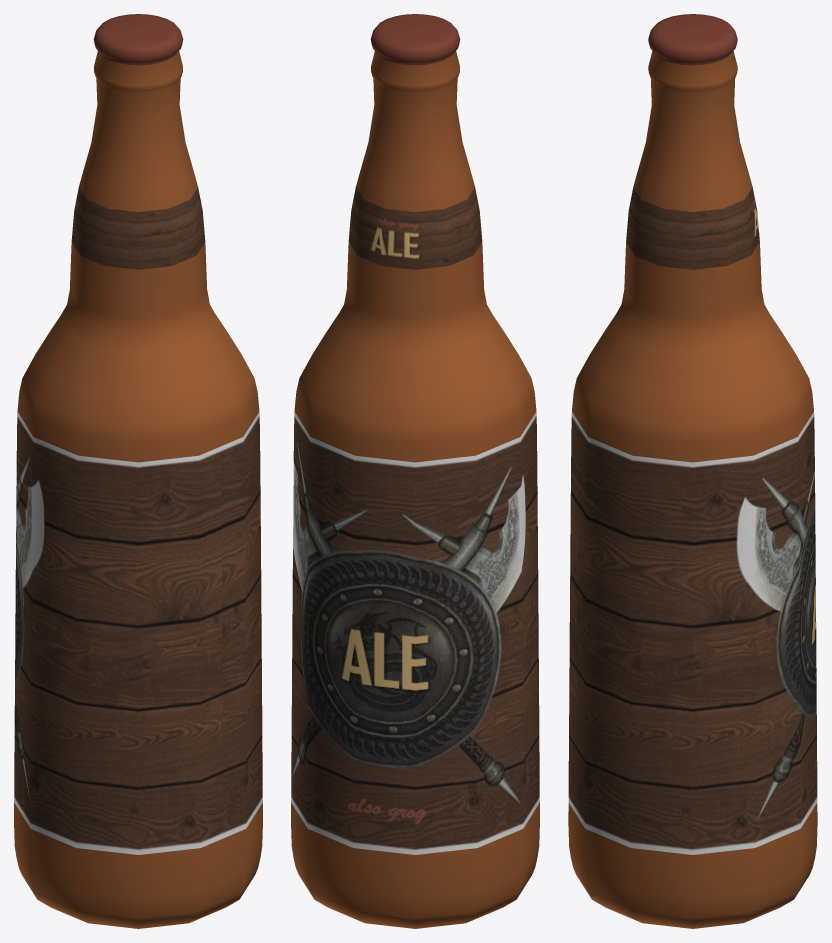
The model's file is beerbottle 1.fbx.
3 renders of one model, left to right at view 1: azimuth 30°, elevation 25°; view 2: azimuth 150°, elevation 25°; view 3: azimuth 270°, elevation 25°, orthographic.
Parts seen in each view (by area): view 1: beerbottle; view 2: beerbottle; view 3: beerbottle.
Part boxes in pixels (left/top/right/bottom): beerbottle: left=14, top=14, right=262, bottom=928; beerbottle: left=291, top=14, right=539, bottom=928; beerbottle: left=568, top=14, right=817, bottom=928.
Bounding box in the file's own units: 5.98 × 23.03 × 5.98.
1 material, 1 textured.
